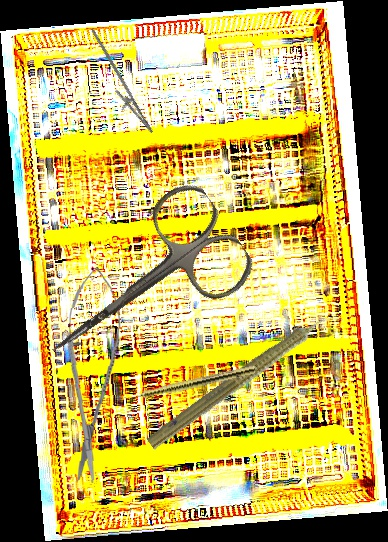Handpiece: (143, 300, 346, 458), (116, 363, 257, 406)
Iris Scissors: (16, 175, 263, 398)
Micro Scissor: (57, 265, 125, 485)
Needle Holder: (71, 27, 166, 140)
